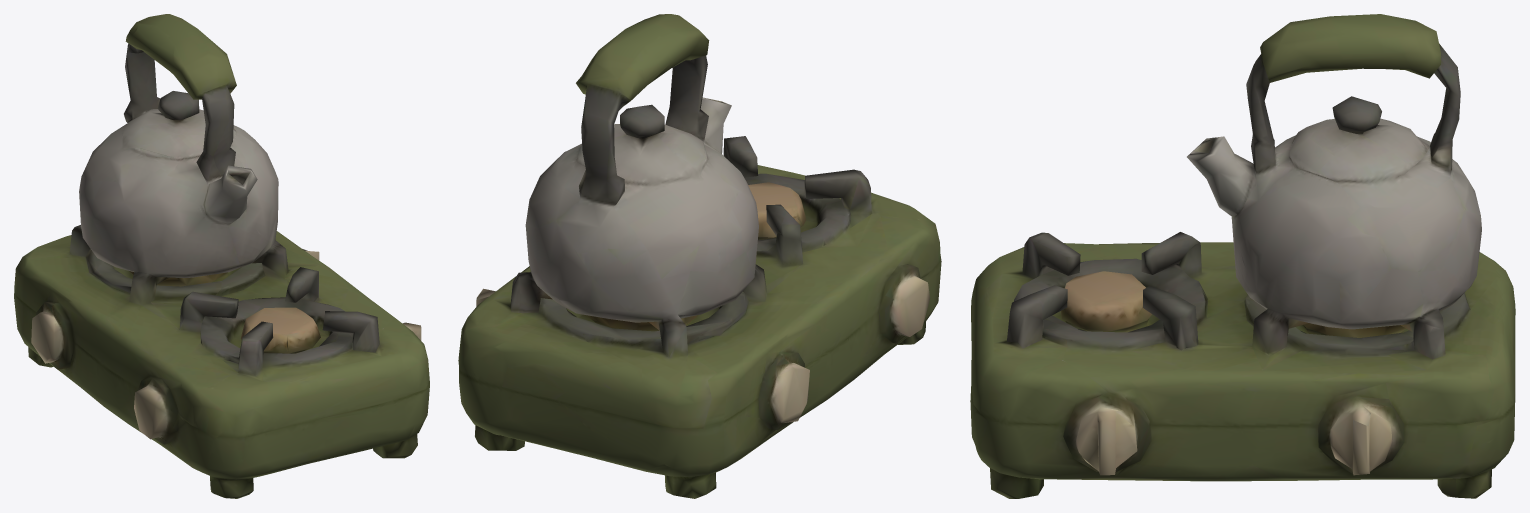
Rendered from f-stove.glb.
The picture shows the model from 3 angles, left to right: view 1: azimuth 30°, elevation 25°; view 2: azimuth 150°, elevation 25°; view 3: azimuth 270°, elevation 25°; orthographic projection. The views are drawn at different scales.
Visible parts, largest first — view 1: tripo_node_6fb4d25e-a050-4979-bdd5-7e1f73a4e083; view 2: tripo_node_6fb4d25e-a050-4979-bdd5-7e1f73a4e083; view 3: tripo_node_6fb4d25e-a050-4979-bdd5-7e1f73a4e083.
Boxes of the visible parts, bbox=[...] form: tripo_node_6fb4d25e-a050-4979-bdd5-7e1f73a4e083: bbox=[14, 14, 429, 498]; tripo_node_6fb4d25e-a050-4979-bdd5-7e1f73a4e083: bbox=[458, 14, 941, 498]; tripo_node_6fb4d25e-a050-4979-bdd5-7e1f73a4e083: bbox=[970, 14, 1515, 498].
Bounding box in the file's own units: 0.7187 × 0.8536 × 1.
1 material, 1 textured.
